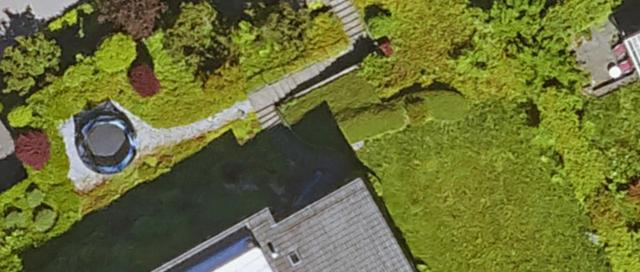tree: (231, 2, 311, 79), (0, 33, 63, 93), (88, 1, 168, 42), (14, 131, 52, 171)
